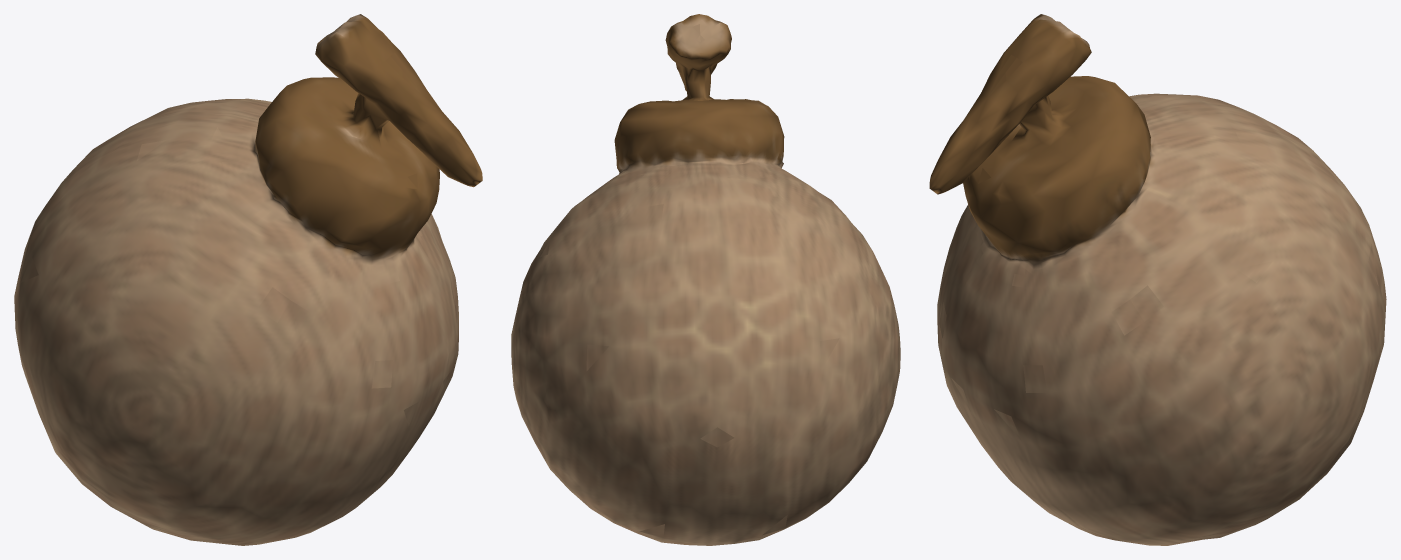
The model's file is sculpture_01.glb.
3 renders of one model, left to right at view 1: azimuth 30°, elevation 25°; view 2: azimuth 150°, elevation 25°; view 3: azimuth 270°, elevation 25°, orthographic. The views are drawn at different scales.
Parts seen in each view (by area): view 1: SCL_02_08; view 2: SCL_02_08; view 3: SCL_02_08.
Part boxes in pixels (left/top/right/bottom): SCL_02_08: left=14, top=14, right=482, bottom=545; SCL_02_08: left=511, top=14, right=900, bottom=545; SCL_02_08: left=929, top=14, right=1386, bottom=545.
Bounding box in the file's own units: 0.3365 × 0.4414 × 0.3413.
Materials: 1 (1 with a texture image).
